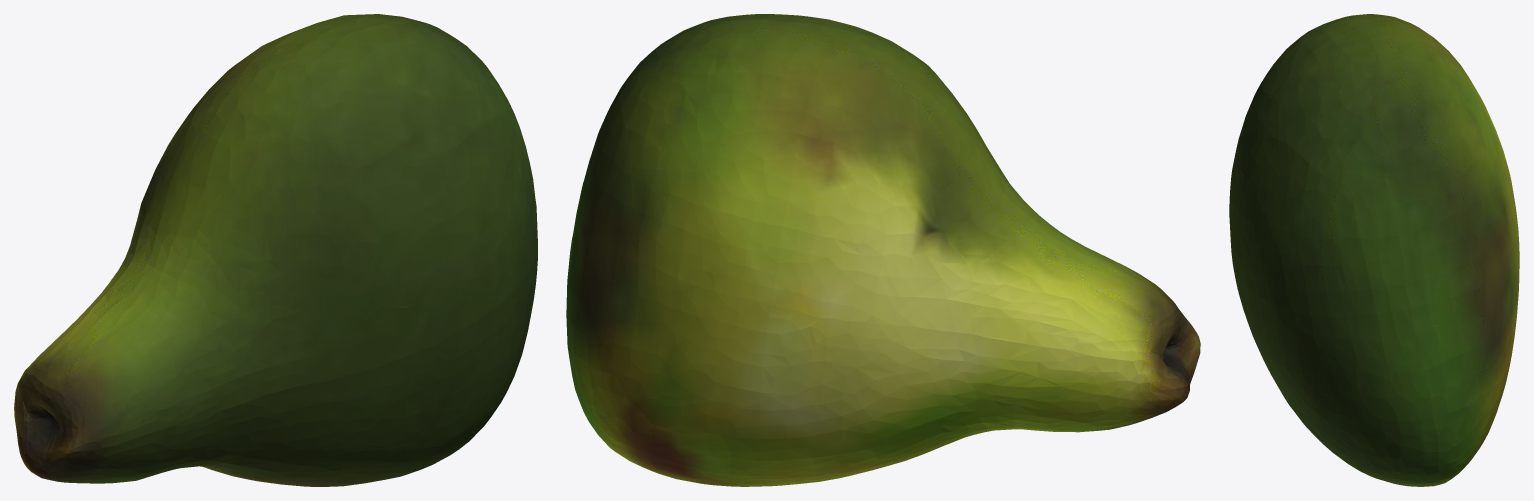
Rendered from small_green_pear_on_the_plate_000.glb.
The picture shows the model from 3 angles, left to right: view 1: azimuth 30°, elevation 25°; view 2: azimuth 150°, elevation 25°; view 3: azimuth 270°, elevation 25°; orthographic projection. The views are drawn at different scales.
Parts seen in each view (by area): view 1: small_green_pear_on_the_plate_000.obj; view 2: small_green_pear_on_the_plate_000.obj; view 3: small_green_pear_on_the_plate_000.obj.
Part boxes in pixels (<box>): small_green_pear_on_the_plate_000.obj: <box>14,14,537,486</box>; small_green_pear_on_the_plate_000.obj: <box>566,14,1200,486</box>; small_green_pear_on_the_plate_000.obj: <box>1229,14,1519,486</box>.
Size of the model in its own units: 0.1916 by 0.1509 by 0.0976.
1 material, 1 textured.
